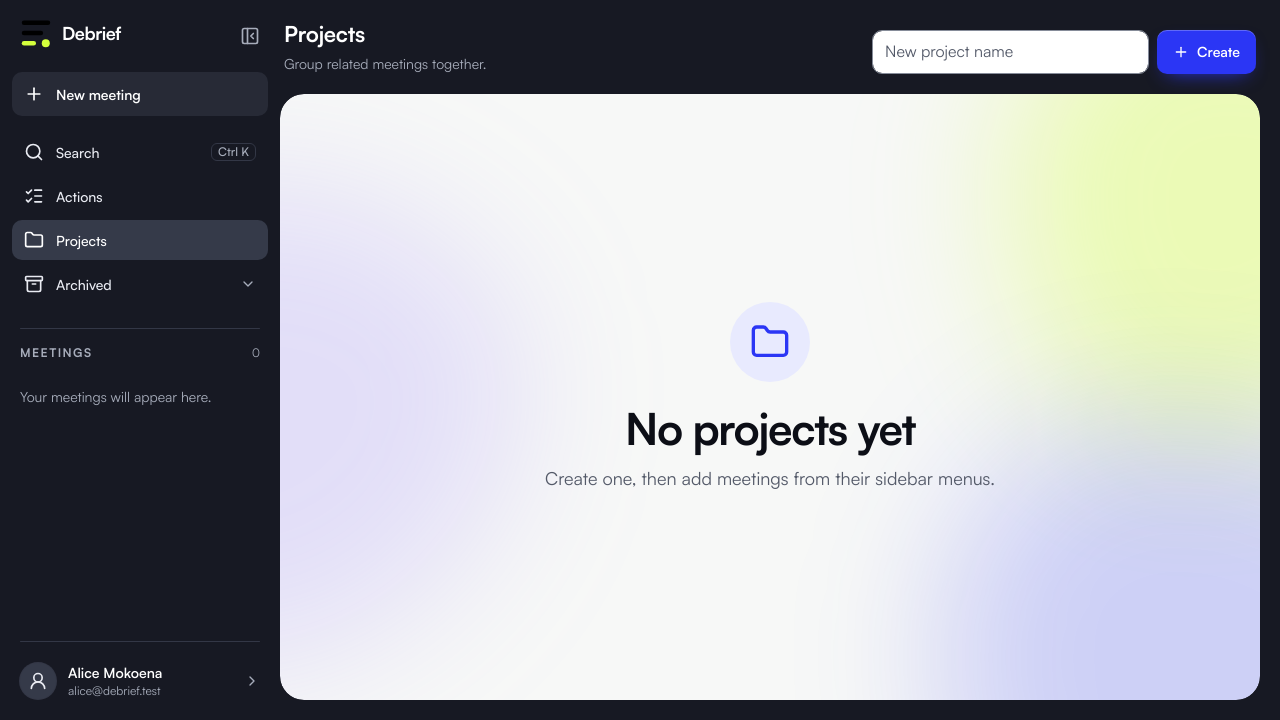
Test case: shows a new project as an expanded row after creation
Check: the heading "No projects yet" is shown, box [625,406,915,453]
In the field labelled "project name": (1011, 52) [872,30,1149,74], type "Launch"
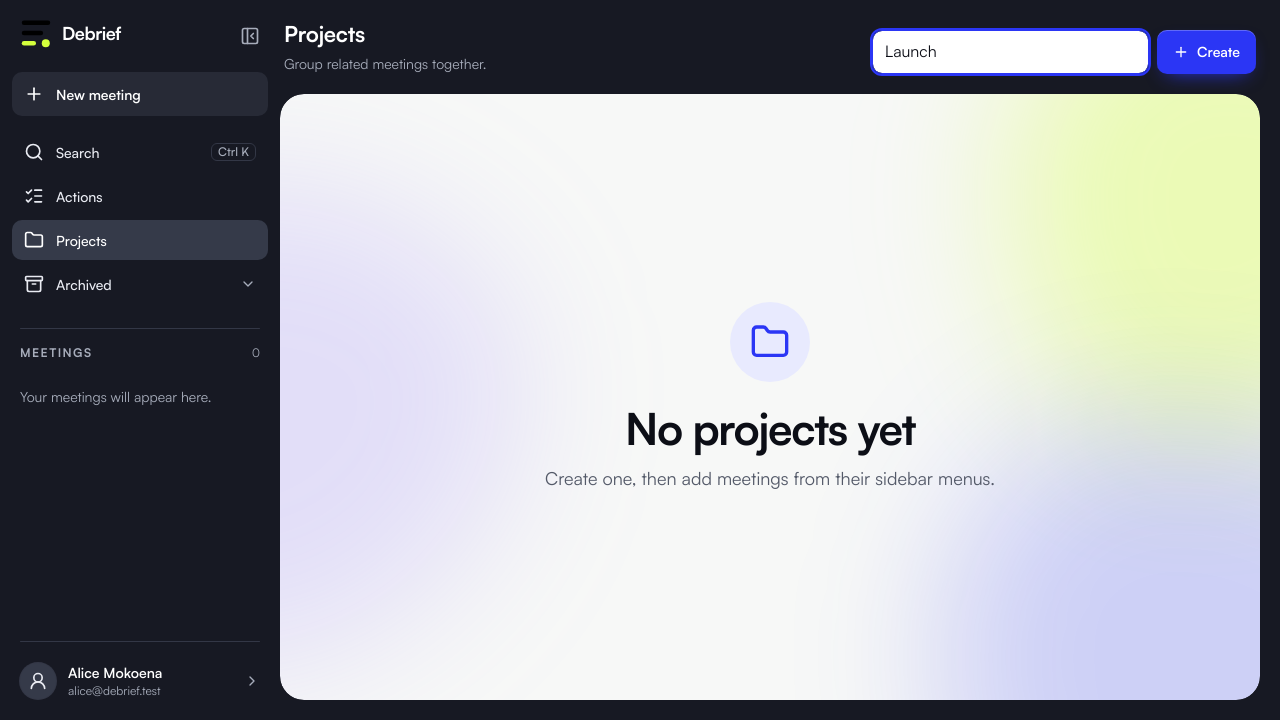
Click the button "Create": (1207, 52) [1157,30,1256,74]
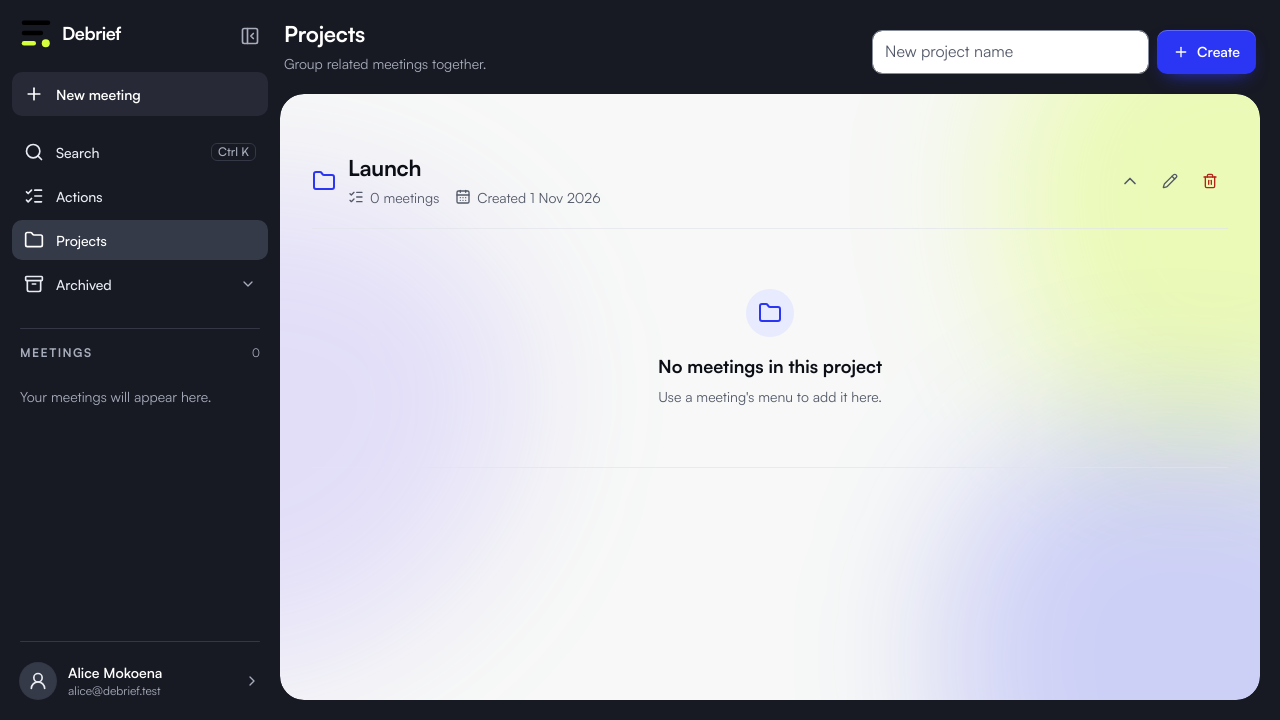
Check: the text "0 meetings" is shown, box [348,187,439,208]
